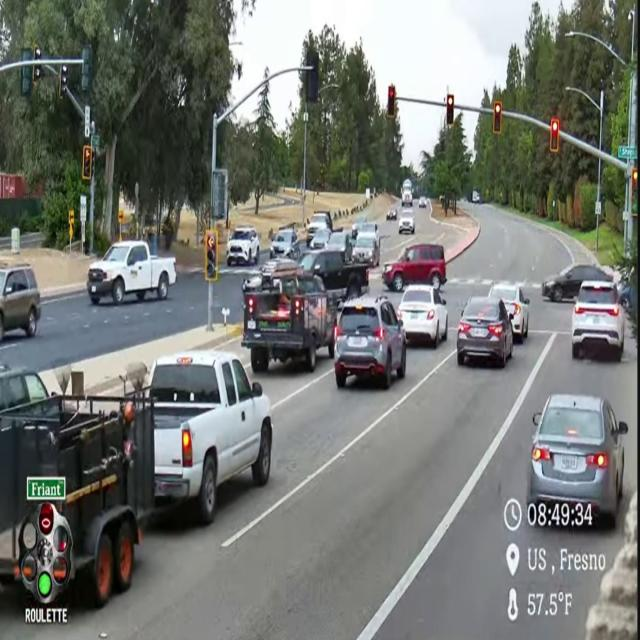car: (527, 394, 628, 526), (334, 296, 406, 389), (571, 281, 625, 360), (457, 297, 513, 367), (397, 286, 447, 348), (0, 264, 40, 341), (382, 244, 446, 292), (542, 264, 612, 302), (489, 283, 529, 343), (0, 365, 49, 410), (242, 258, 299, 291), (226, 226, 259, 266), (270, 227, 300, 260), (306, 212, 332, 245), (353, 234, 379, 266), (326, 230, 352, 262), (618, 282, 637, 310), (308, 228, 332, 250), (398, 210, 416, 234), (358, 222, 379, 242), (352, 216, 366, 239), (386, 208, 397, 220), (472, 192, 480, 203), (418, 197, 426, 207)
traffic signal: (306, 50, 319, 103), (205, 230, 218, 281), (21, 48, 32, 96), (81, 45, 92, 91), (82, 145, 93, 180), (550, 118, 559, 152), (493, 101, 502, 135), (631, 167, 637, 217), (387, 85, 396, 118), (59, 65, 68, 98), (446, 95, 454, 126), (32, 64, 41, 82), (632, 168, 637, 188)
truck: (0, 392, 154, 607), (149, 351, 272, 525), (241, 271, 339, 373), (87, 240, 176, 304), (300, 248, 368, 300), (306, 211, 333, 246), (401, 179, 413, 207)
